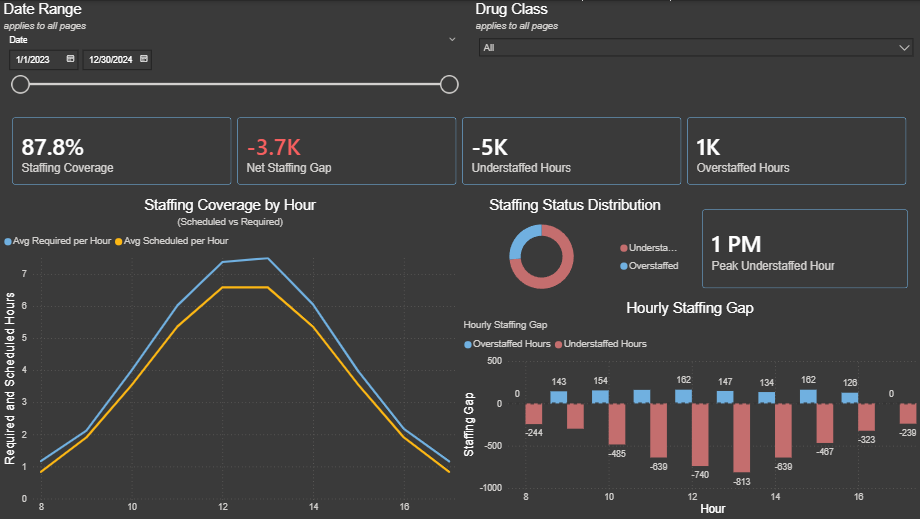

The page's visual inventory and layout, read from the dashboard file:
{"tool":"powerbi","page":{"name":"Operational Efficiency & Staffing","canvas":[1280,720],"ordinal":3},"visuals":[{"type":"lineChart","title":"Staffing Coverage by Hour","fields":{"Category":["projected_staffing_by_hour.Hour"],"Y":["Dim_DrugClass.Avg Required per Hour","Dim_DrugClass.Avg Scheduled per Hour"]},"box":[0,272,640,448],"z":0},{"type":"cardVisual","title":"Understaffed Hours","fields":{"Data":["date_table.Coverage %","date_table.Staffing Delta Hours","date_table.Understaffed Hours","date_table.Overstaffed Hours"]},"box":[0,144,1280,128],"z":1000},{"type":"clusteredColumnChart","title":"Hourly Staffing Gap","fields":{"Category":["projected_staffing_by_hour.Hour"],"Y":["date_table.Overstaffed Hours","date_table.Understaffed Hours"]},"box":[640,416,640,304],"z":2000},{"type":"group","id":"g1","title":"Group 1","box":[0,0,1280,144],"z":3000},{"type":"slicer","title":"Date Range","fields":{"Values":["date_table.Date"]},"box":[0,0,647,144],"z":4000,"group":"g2"},{"type":"donutChart","title":"Staffing Status Distribution","fields":{"Y":["date_table.Intervals Count"],"Category":["projected_staffing_by_hour.OverUnderFlag"]},"box":[640,272,320,144],"z":4000},{"type":"cardVisual","fields":{"Data":["date_table.Peak Understaffed Hour Label"]},"box":[960,272,320,144],"z":5000},{"type":"slicer","title":"Drug Class","fields":{"Values":["Dim_DrugClass.pharm_classes"]},"box":[656,0,624,144],"z":7000,"group":"g2"},{"type":"group","id":"g2","title":"Group 2","box":[0,0,1280,144],"z":7002,"group":"g1"}]}

Visuals, with their boxes in screenshot pixels (x1, y1, x2, y2), scaled from the page's 1280x720 canvas onto the 920x519 screenshot:
"Staffing Coverage by Hour" lineChart: bbox(0, 196, 460, 518)
"Understaffed Hours" cardVisual: bbox(0, 104, 919, 196)
"Hourly Staffing Gap" clusteredColumnChart: bbox(460, 300, 919, 518)
"Group 1" group: bbox(0, 0, 919, 104)
"Date Range" slicer: bbox(0, 0, 465, 104)
"Staffing Status Distribution" donutChart: bbox(460, 196, 690, 300)
cardVisual - date_table.Peak Understaffed Hour Label: bbox(690, 196, 919, 300)
"Drug Class" slicer: bbox(472, 0, 919, 104)
"Group 2" group: bbox(0, 0, 919, 104)
